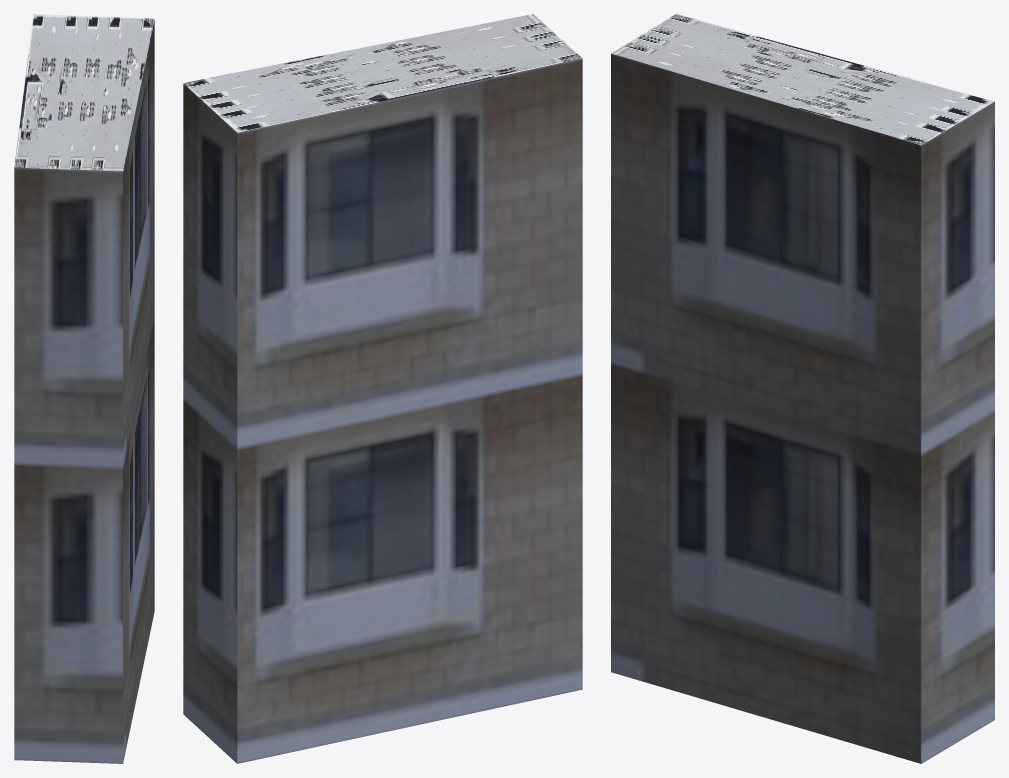
The model's file is ResTex__3212.fbx.
3 views of the same model, side by side, from view 1: azimuth 30°, elevation 25°; view 2: azimuth 150°, elevation 25°; view 3: azimuth 270°, elevation 25° (orthographic). The views are drawn at different scales.
Visible parts, largest first — view 1: CityEngineMaterial_3_m, CityEngineMaterial_m; view 2: CityEngineMaterial_3_m, CityEngineMaterial_m; view 3: CityEngineMaterial_3_m, CityEngineMaterial_m.
Part boxes in pixels (<box>): CityEngineMaterial_3_m: <box>14,20,154,763</box>; CityEngineMaterial_m: <box>14,14,154,171</box>; CityEngineMaterial_3_m: <box>183,58,582,763</box>; CityEngineMaterial_m: <box>183,14,582,132</box>; CityEngineMaterial_3_m: <box>611,53,994,763</box>; CityEngineMaterial_m: <box>611,14,994,145</box>.
Size of the model in its own units: 2.73 by 6 by 3.37.
Materials: 2 (2 with a texture image).
